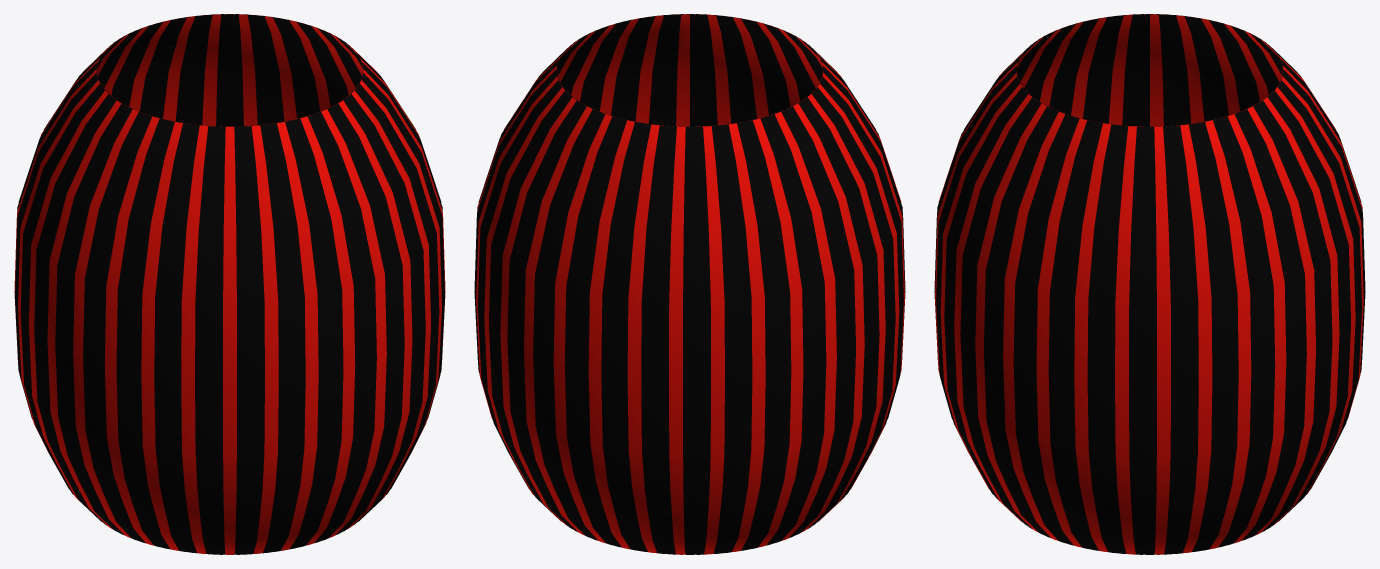
File: p_mesh_plasmadrill_diameter_glow01_pose1.fbx
3 renders of one model, left to right at view 1: azimuth 30°, elevation 25°; view 2: azimuth 150°, elevation 25°; view 3: azimuth 270°, elevation 25°, orthographic.
Parts seen in each view (by area): view 1: plasmadrill_diameter_glow01_pose1; view 2: plasmadrill_diameter_glow01_pose1; view 3: plasmadrill_diameter_glow01_pose1.
Part boxes in pixels (x1,y1,x2,y2): plasmadrill_diameter_glow01_pose1: (14,14,445,554); plasmadrill_diameter_glow01_pose1: (474,14,905,554); plasmadrill_diameter_glow01_pose1: (934,14,1365,554).
Size of the model in its own units: 19.81 by 22.36 by 19.81.
Materials: 3 (2 with a texture image).
